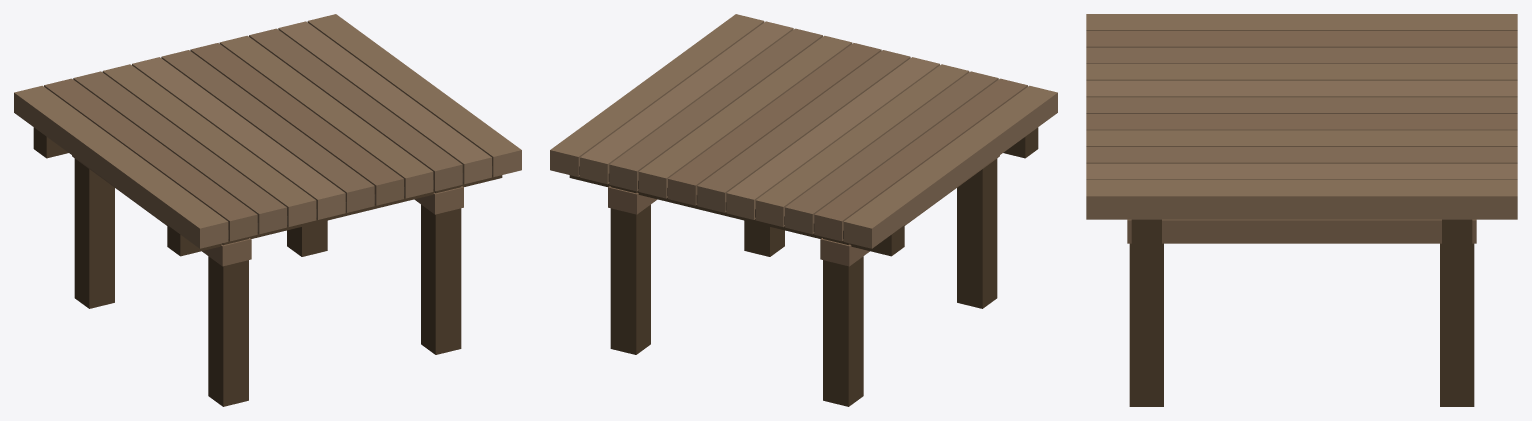
The model's file is coast_dock_straight.glb.
3 renders of one model, left to right at view 1: azimuth 30°, elevation 25°; view 2: azimuth 150°, elevation 25°; view 3: azimuth 270°, elevation 25°, orthographic. The views are drawn at different scales.
Parts seen in each view (by area): view 1: coast_dock_straight; view 2: coast_dock_straight; view 3: coast_dock_straight.
Part boxes in pixels (left/top/right/bottom): coast_dock_straight: left=14, top=14, right=521, bottom=406; coast_dock_straight: left=550, top=14, right=1057, bottom=406; coast_dock_straight: left=1086, top=14, right=1517, bottom=406.
Bounding box in the file's own units: 2 × 1.2 × 2.
